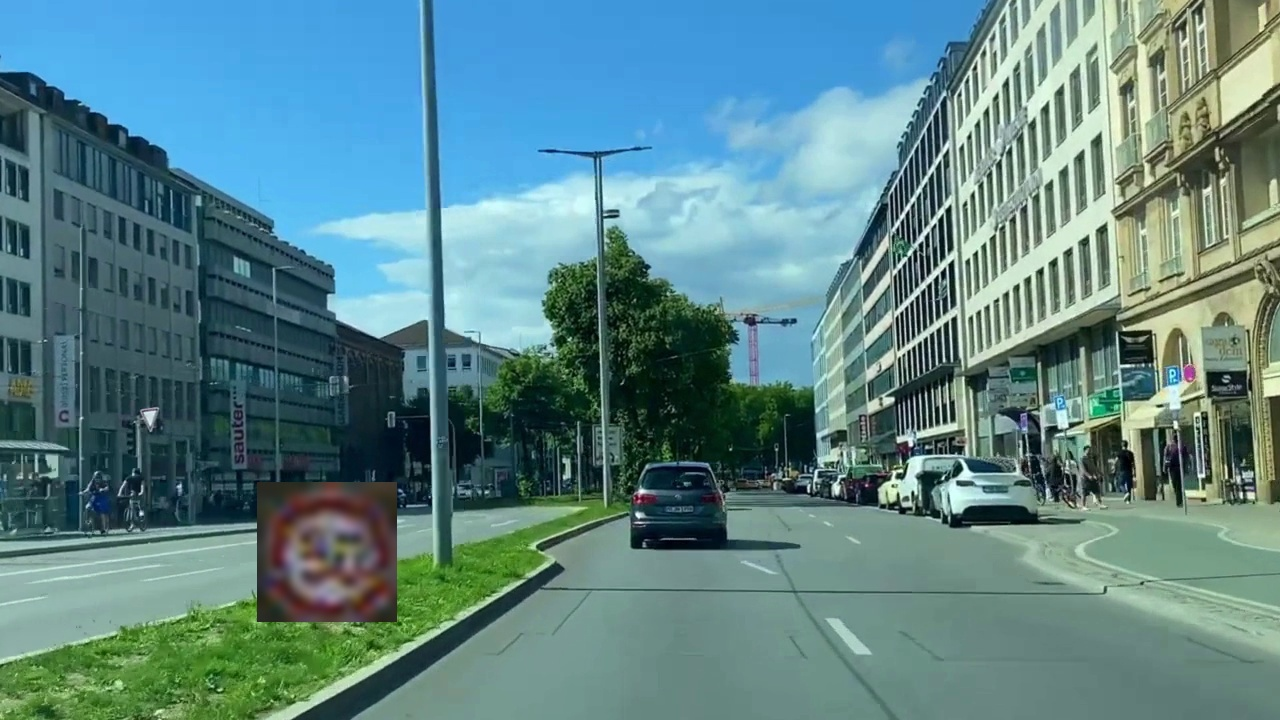Speed 50: (257, 482, 397, 622)
